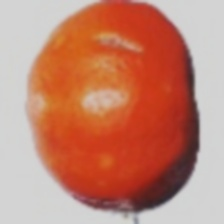tangerine: (45, 36, 180, 199)
